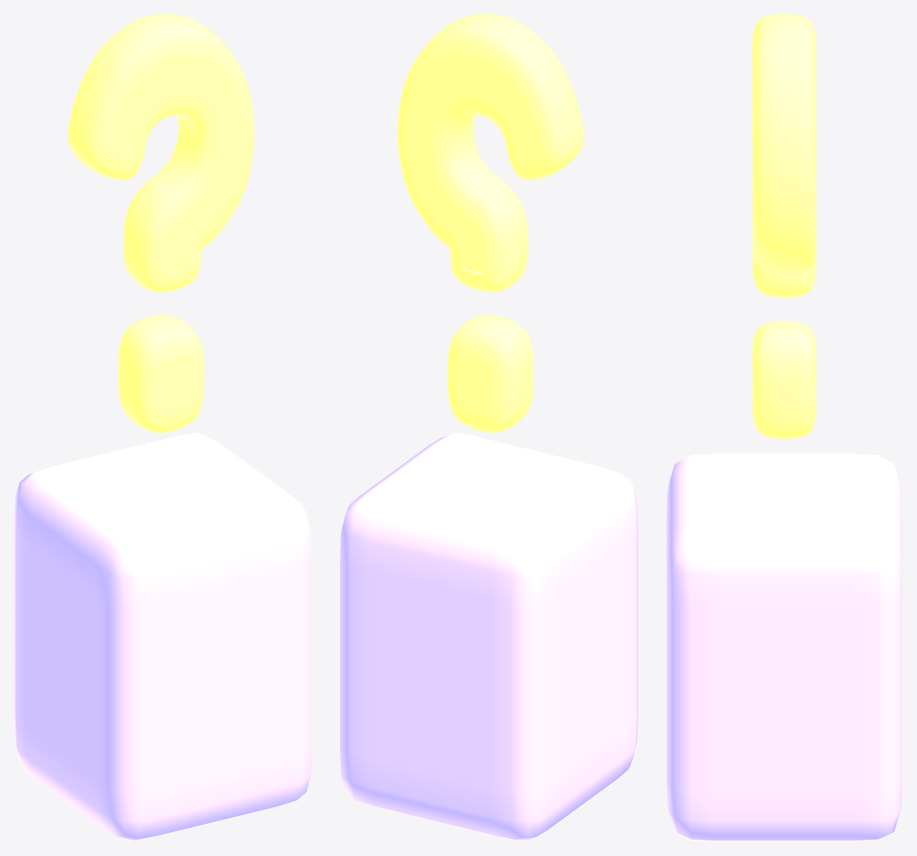
Rendered from question_mark.glb.
3 renders of one model, left to right at view 1: azimuth 30°, elevation 25°; view 2: azimuth 150°, elevation 25°; view 3: azimuth 270°, elevation 25°, orthographic.
Parts seen in each view (by area): view 1: QuestionMark_2; view 2: QuestionMark_2; view 3: QuestionMark_2.
Part boxes in pixels (x1,y1,x2,y2): QuestionMark_2: (14, 14, 311, 841); QuestionMark_2: (340, 14, 637, 841); QuestionMark_2: (666, 14, 902, 841).
Size of the model in its own units: 1.81 by 6.6 by 1.81.
